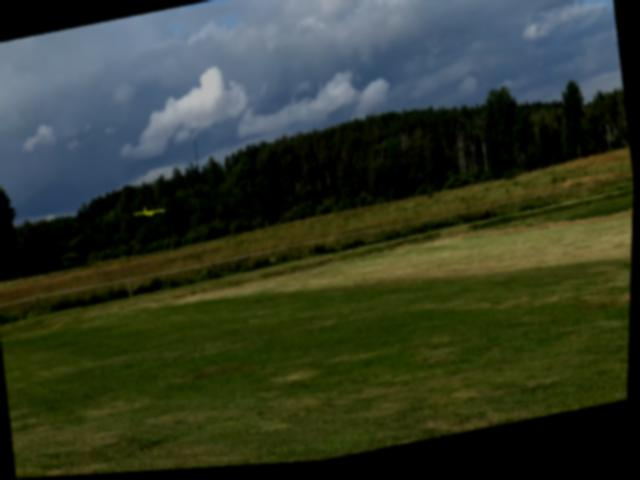plane: (136, 205, 166, 226)
